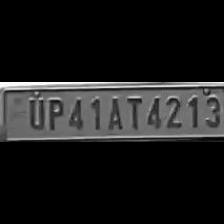1: (86, 96, 104, 132), (183, 94, 199, 128)
2: (162, 94, 182, 128)
3: (202, 93, 220, 129)
4: (64, 96, 86, 130), (144, 94, 160, 130)
A: (104, 95, 124, 131)
P: (44, 96, 64, 132)
T: (124, 94, 142, 130)
U: (23, 96, 45, 130)
